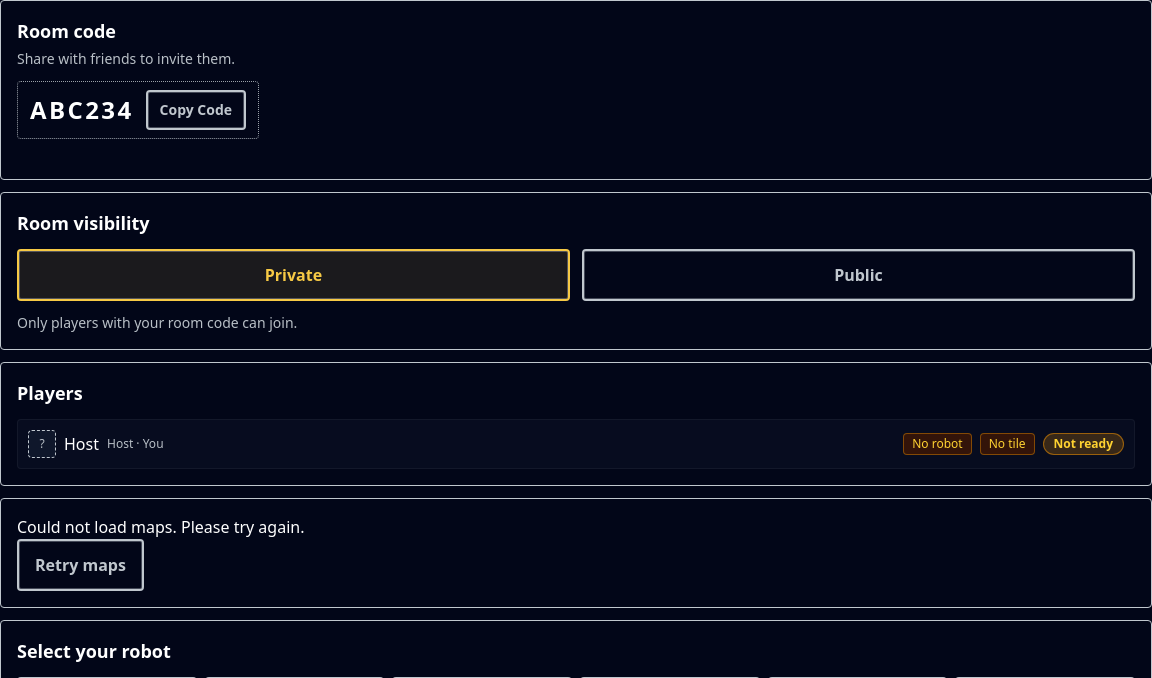
copies the room code and reports clipboard failure
What coordinates should you click on to do the following:
click the button "Copy Code"
I would click on:
 (196, 110)
Its box is [146,90,246,130].
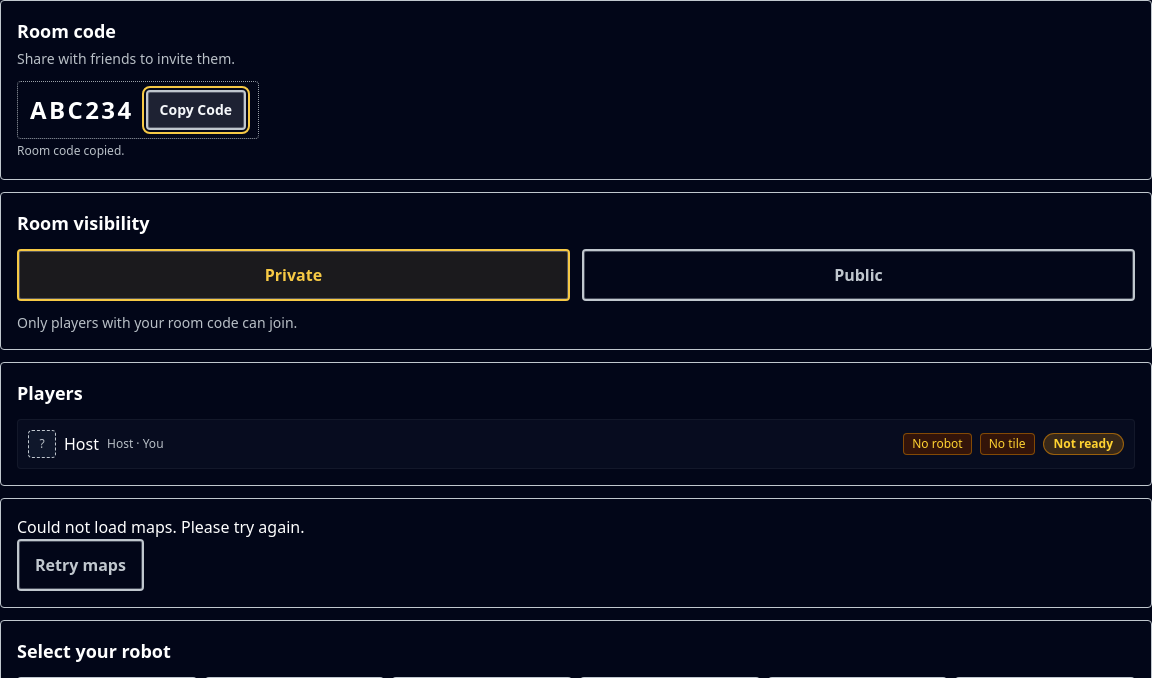
Expected: the text "Room code copied." is shown, [17,143,124,163]
What coordinates should you click on to do the following:
click the button "Copy Code"
I would click on:
 (196, 110)
Its box is [146,90,246,130].
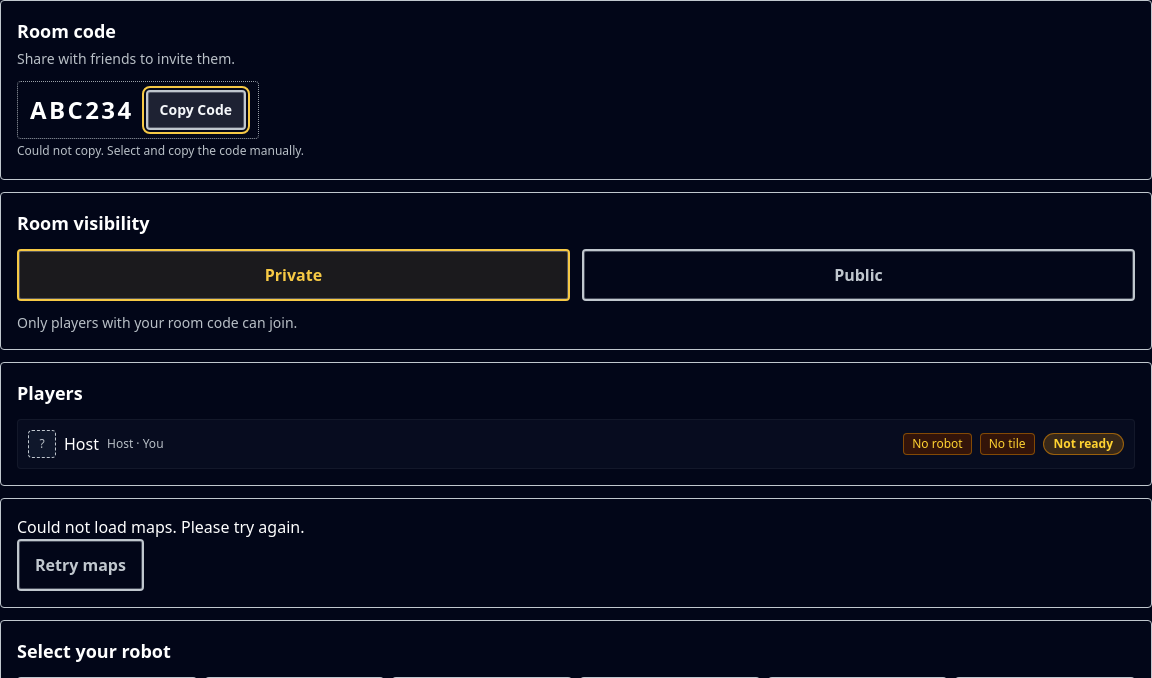
Expected: the text "Could not copy. Select and copy the code manually." is shown, [17,143,304,163]
